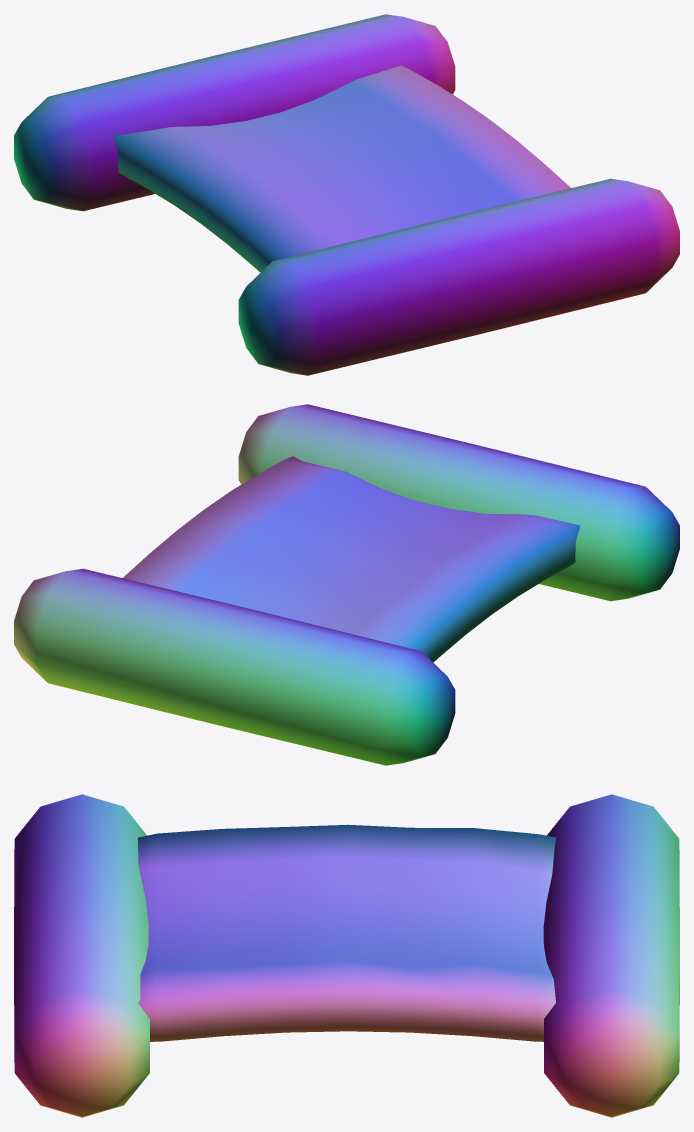
Rendered from SM_NPCKit_Prop_Scroll.fbx.
3 renders of one model, top to bottom at view 1: azimuth 30°, elevation 25°; view 2: azimuth 150°, elevation 25°; view 3: azimuth 270°, elevation 25°, orthographic. The views are drawn at different scales.
Visible parts, largest first — view 1: SM_NPCKit_Prop_Scroll; view 2: SM_NPCKit_Prop_Scroll; view 3: SM_NPCKit_Prop_Scroll.
Boxes of the visible parts, left/top/right/bottom form: SM_NPCKit_Prop_Scroll: left=14, top=14, right=679, bottom=375; SM_NPCKit_Prop_Scroll: left=14, top=404, right=679, bottom=765; SM_NPCKit_Prop_Scroll: left=14, top=794, right=679, bottom=1117.
Size of the model in its own units: 0.3426 by 0.0864 by 0.4011.
